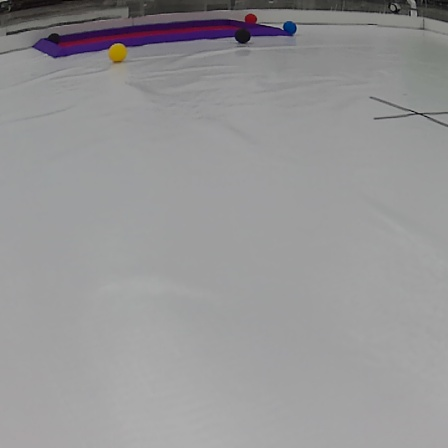black: (234, 27, 250, 44), (45, 31, 62, 44)
blue: (282, 20, 301, 35)
red: (244, 12, 256, 26)
red_aim: (28, 18, 295, 59)
yellow: (109, 41, 128, 63)
